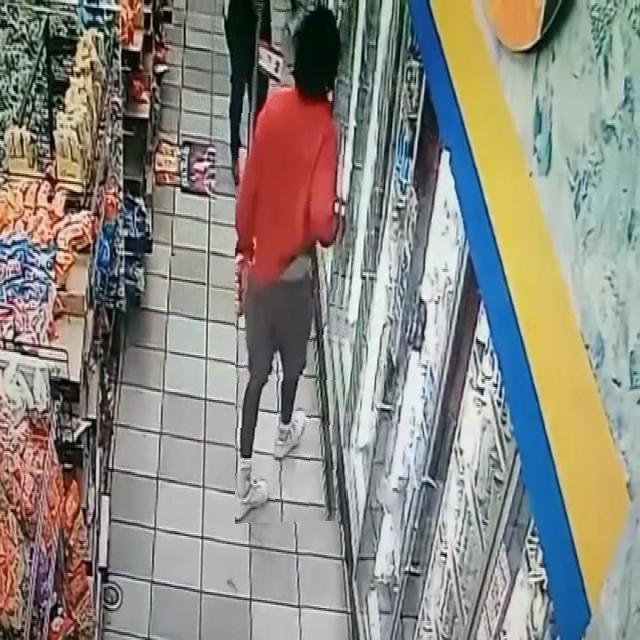normal: (236, 0, 348, 524)
